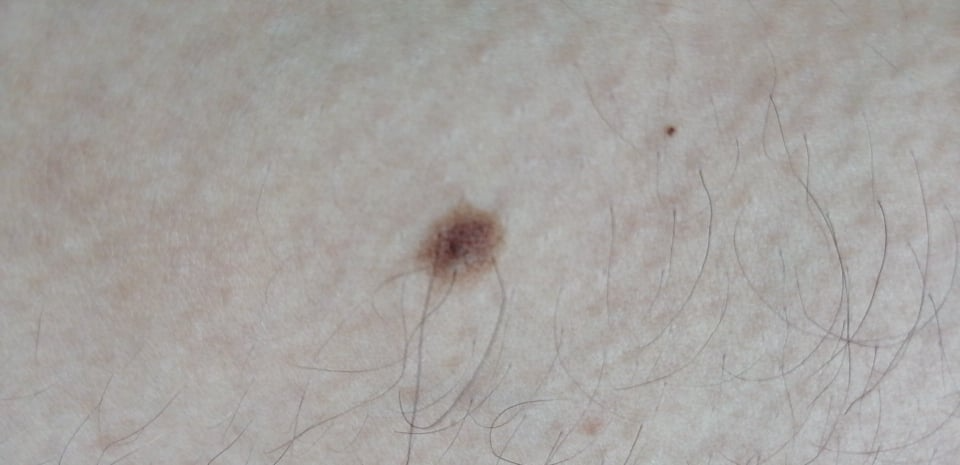Normal: (419, 208, 506, 285)
